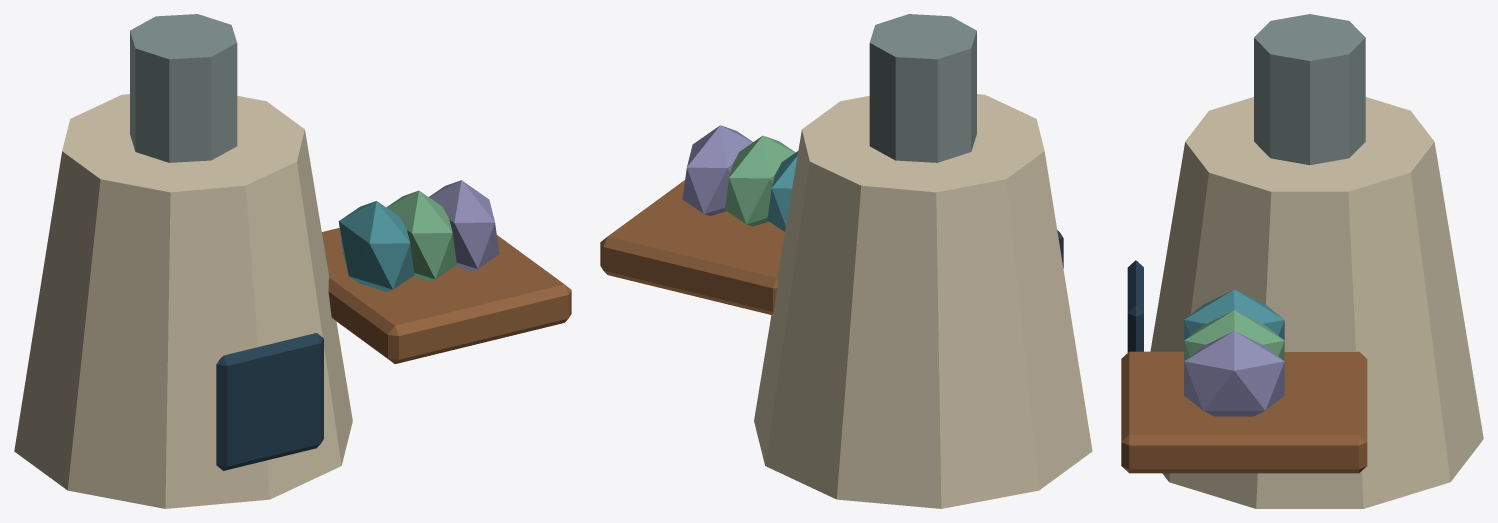
File: glassworks.glb
3 renders of one model, left to right at view 1: azimuth 30°, elevation 25°; view 2: azimuth 150°, elevation 25°; view 3: azimuth 270°, elevation 25°, orthographic.
Visible parts, largest first — view 1: kiln; view 2: kiln; view 3: kiln.
Boxes of the visible parts, x1,y1,x2,y2 form: kiln: (14, 14, 571, 508); kiln: (600, 14, 1092, 508); kiln: (1121, 14, 1483, 508).
Size of the model in its own units: 1.56 by 1.35 by 1.1.
